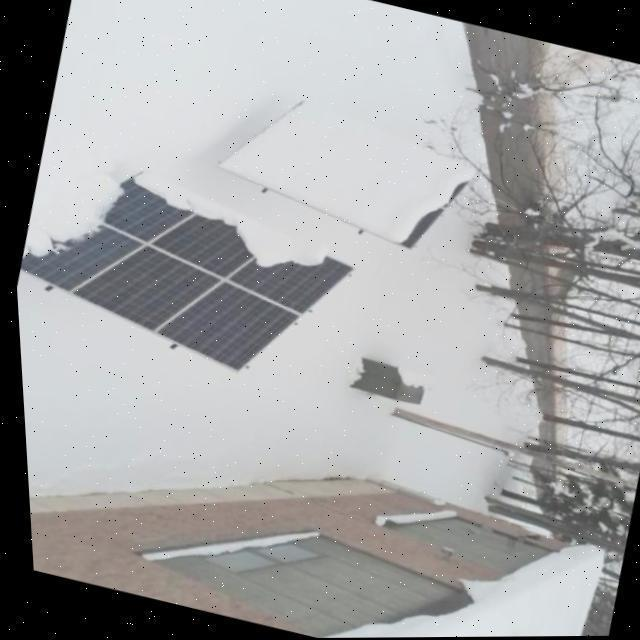Anomaly Solar Panel: (15, 168, 348, 370), (214, 98, 472, 250)
Snow: (215, 100, 472, 245), (127, 171, 324, 269), (17, 180, 126, 261)
